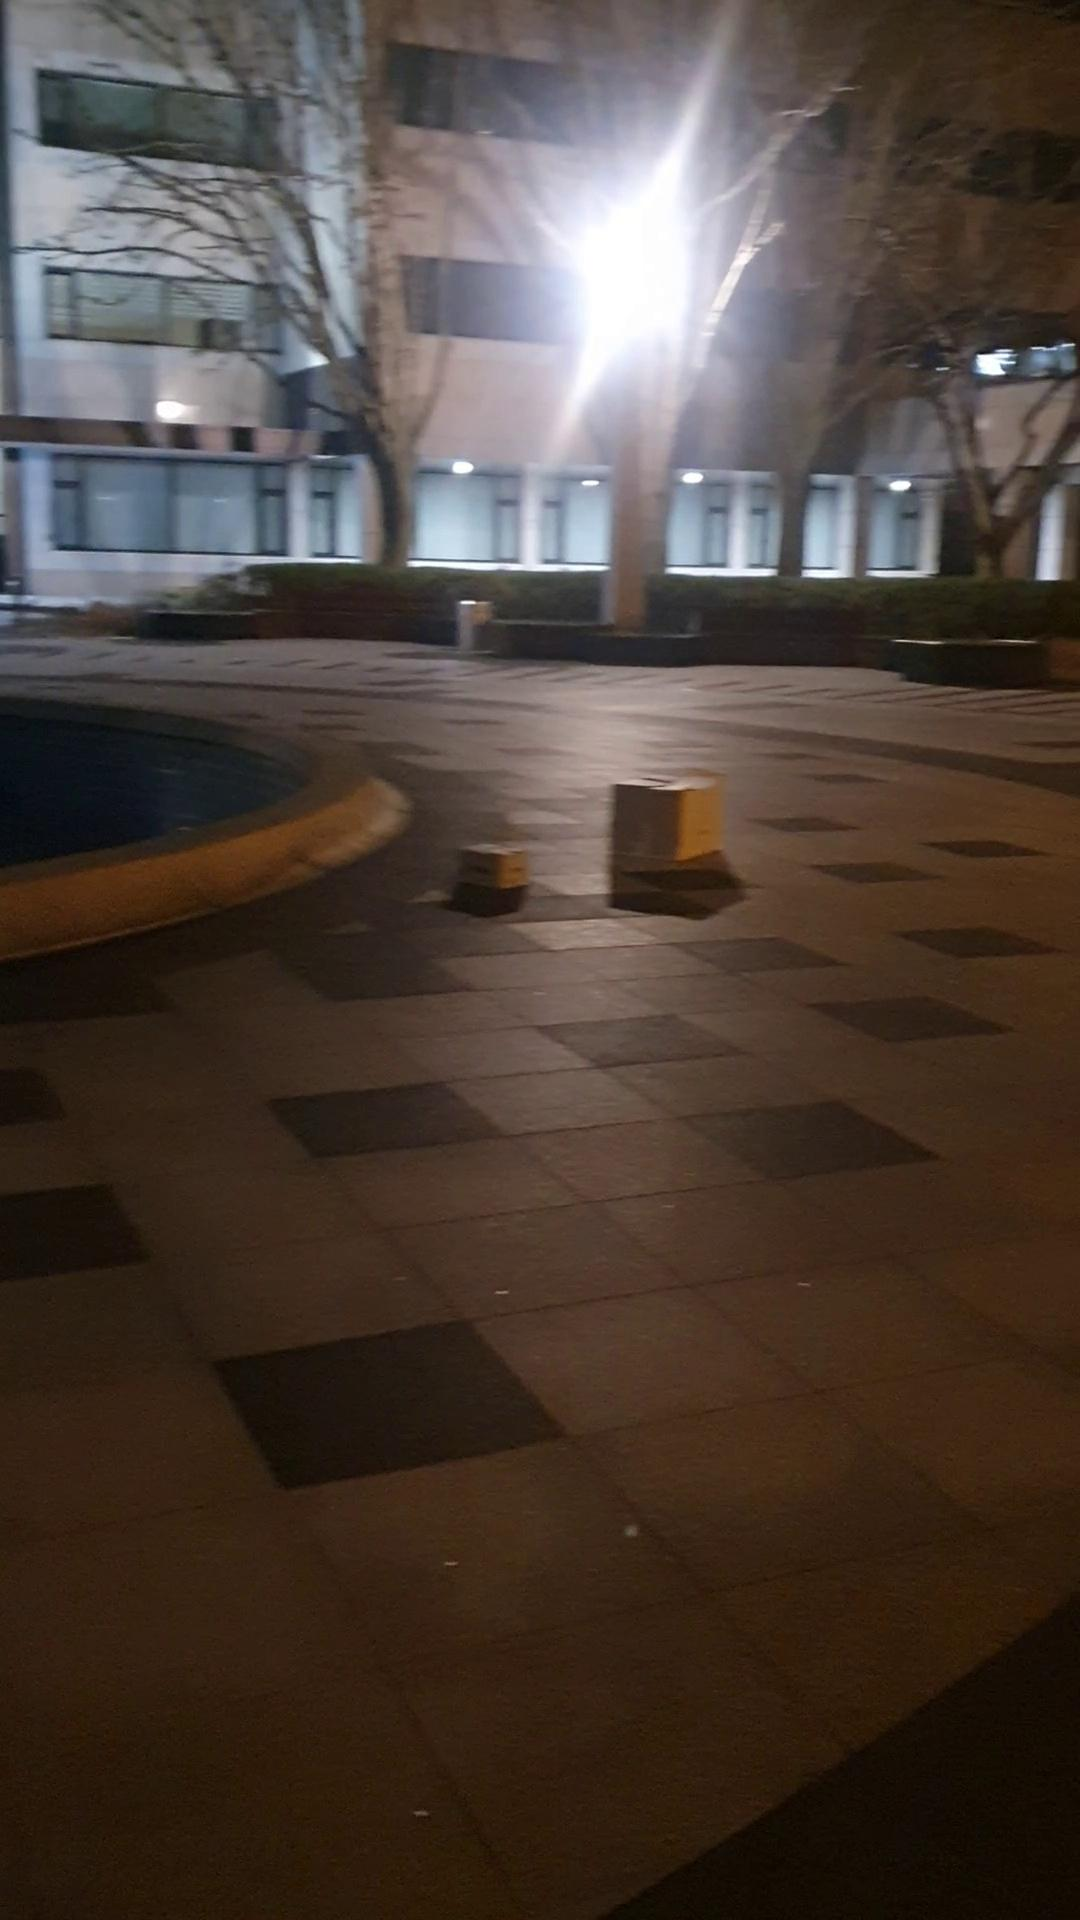Box: (593, 758, 737, 884), (454, 825, 541, 907)
